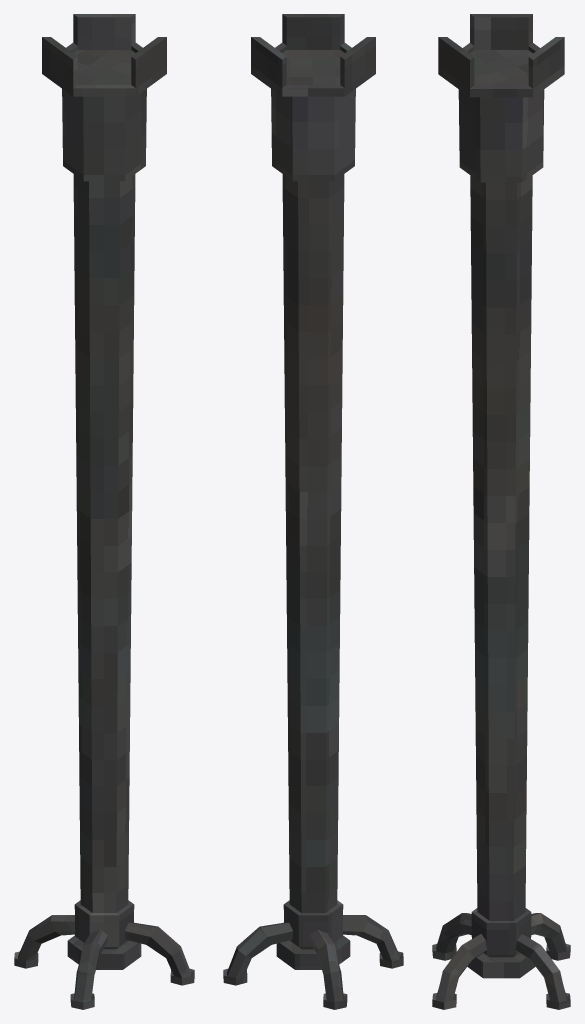
Rendered from lamp.gltf.
3 renders of one model, left to right at view 1: azimuth 30°, elevation 25°; view 2: azimuth 150°, elevation 25°; view 3: azimuth 270°, elevation 25°, orthographic.
Parts seen in each view (by area): view 1: Lamp; view 2: Lamp; view 3: Lamp.
Boxes of the visible parts, x1,y1,x2,y2 form: Lamp: (14,14,194,1009); Lamp: (223,14,403,1009); Lamp: (432,14,570,1009).
Bounding box in the file's own units: 0.226 × 1.64 × 0.2171.
Materials: 1 (1 with a texture image).
